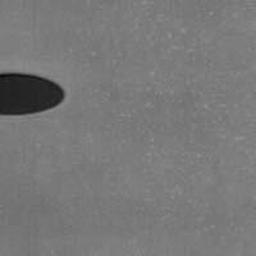Punching: (0, 72, 65, 115)
